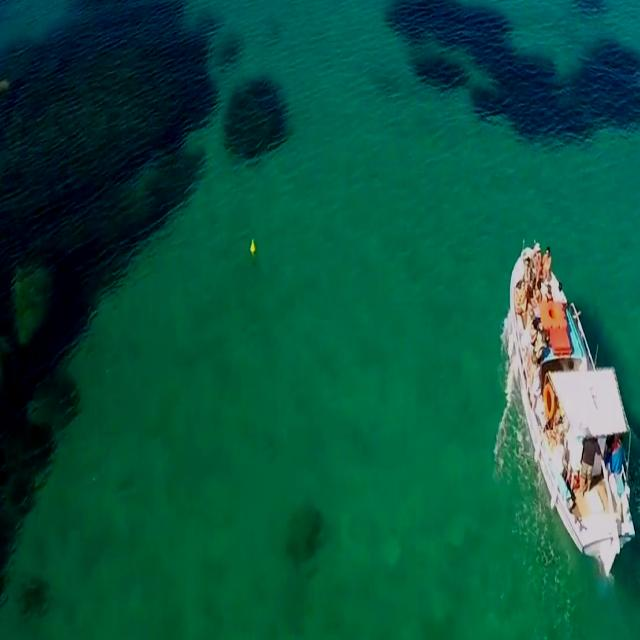ship: (514, 247, 634, 574)
